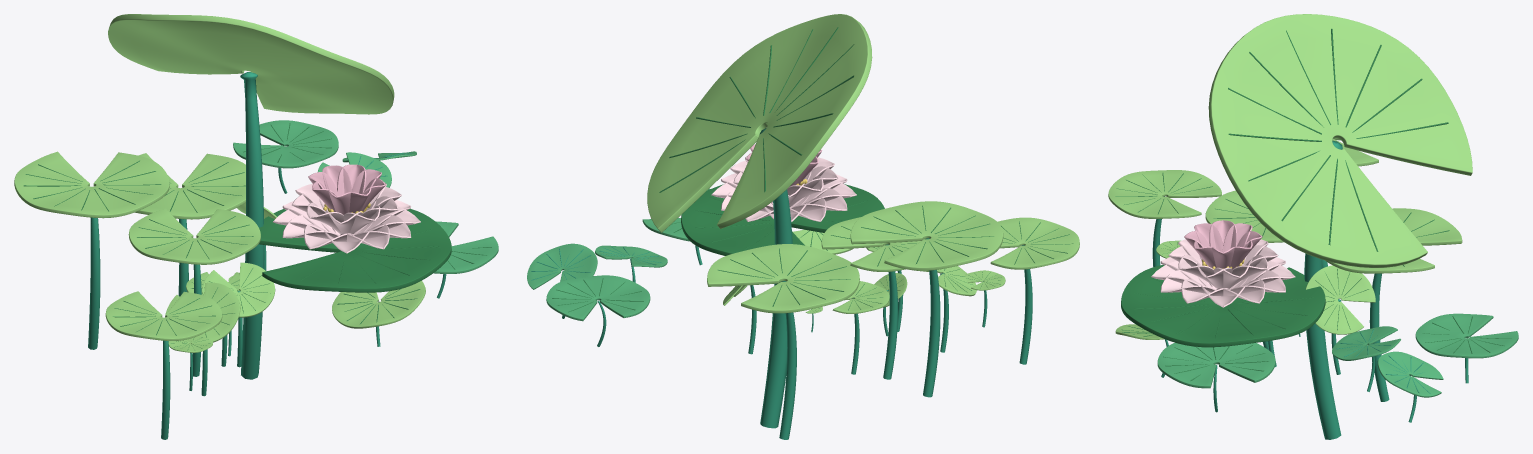
The model's file is waterlily.glb.
3 views of the same model, side by side, from view 1: azimuth 30°, elevation 25°; view 2: azimuth 150°, elevation 25°; view 3: azimuth 270°, elevation 25° (orthographic). The views are drawn at different scales.
Visible parts, largest first — view 1: LilyPad_02.014, LotusPad, LilyPad_02.005, LilyPad_02.013, LilyPad_02.009, LilyPad_02, PadStem_02.014, LilyPad_03, LilyPad_04, LilyPad_02.015, LilyPad_01, LilyPad_02.008 (+9 smaller); view 2: LilyPad_02.014, LilyPad_02.005, LilyPad_02, LotusPad, LilyPad_03, LilyPad_02.009, PadStem_02.014, LilyPad_05.006, LilyPad_02.013, PadStem_02.005, PadStem_02, LilyPad_02.011 (+7 smaller); view 3: LilyPad_02.014, LotusPad, LilyPad_02.009, LilyPad_01, LilyPad_03, LilyPad_02.012, PadStem_02.014, LilyPad_02, LilyPad_05.006, LilyPad_05, LilyPad_02.013, PadStem_02 (+12 smaller).
Part boxes in pixels (<box>): LilyPad_02.014: <box>108,14,394,114</box>; LotusPad: <box>259,208,451,292</box>; LilyPad_02.005: <box>14,151,169,218</box>; LilyPad_02.013: <box>128,208,260,264</box>; LilyPad_02.009: <box>105,291,222,340</box>; LilyPad_02: <box>134,153,245,219</box>; PadStem_02.014: <box>240,72,264,379</box>; LilyPad_03: <box>233,120,338,168</box>; LilyPad_04: <box>332,280,425,328</box>; LilyPad_02.015: <box>202,262,275,317</box>; LilyPad_01: <box>433,221,498,273</box>; LilyPad_02.008: <box>165,282,240,343</box>; LilyPad_02.014: <box>647,14,872,232</box>; LilyPad_02.005: <box>850,201,1003,270</box>; LilyPad_02: <box>707,244,859,313</box>; LotusPad: <box>681,184,884,255</box>; LilyPad_03: <box>546,275,650,321</box>; LilyPad_02.009: <box>990,217,1079,269</box>; PadStem_02.014: <box>759,128,792,428</box>; LilyPad_05.006: <box>527,243,597,289</box>; LilyPad_02.013: <box>821,217,924,271</box>; PadStem_02.005: <box>923,238,940,397</box>; PadStem_02: <box>779,281,796,439</box>; LilyPad_02.011: <box>832,281,889,313</box>; LilyPad_02.014: <box>1208,14,1472,267</box>; LotusPad: <box>1121,265,1325,347</box>; LilyPad_02.009: <box>1108,170,1221,218</box>; LilyPad_01: <box>1157,342,1275,388</box>; LilyPad_03: <box>1415,313,1518,358</box>; LilyPad_02.012: <box>1305,265,1375,334</box>; PadStem_02.014: <box>1304,140,1342,439</box>; LilyPad_02: <box>1325,208,1462,273</box>; LilyPad_05.006: <box>1377,351,1443,397</box>; LilyPad_05: <box>1332,326,1400,360</box>; LilyPad_02.013: <box>1205,190,1283,242</box>; PadStem_02: <box>1369,273,1389,401</box>.
Size of the model in its own units: 6.37 by 5.65 by 5.41.
